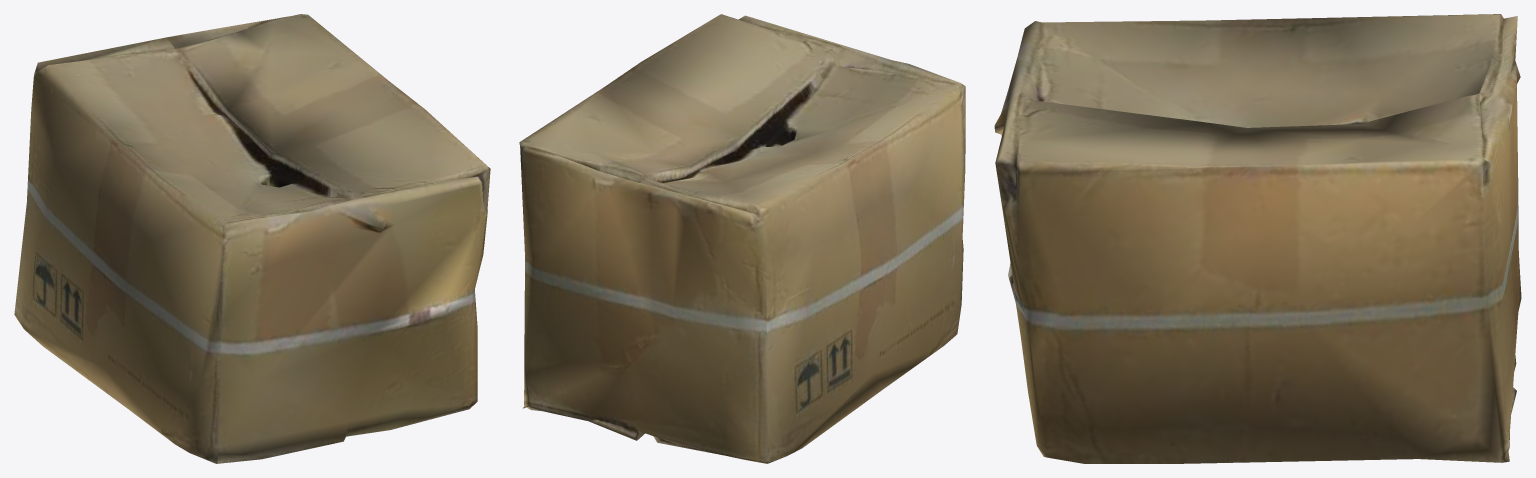
3 renders of one model, left to right at view 1: azimuth 30°, elevation 25°; view 2: azimuth 150°, elevation 25°; view 3: azimuth 270°, elevation 25°, orthographic. The views are drawn at different scales.
Visible parts, largest first — view 1: cardboard_box_01; view 2: cardboard_box_01; view 3: cardboard_box_01.
Part boxes in pixels (<box>): cardboard_box_01: <box>14,14,490,463</box>; cardboard_box_01: <box>519,14,965,463</box>; cardboard_box_01: <box>994,14,1521,463</box>.
Bounding box in the file's own units: 0.3829 × 0.3403 × 0.5159.
1 material, 1 textured.
